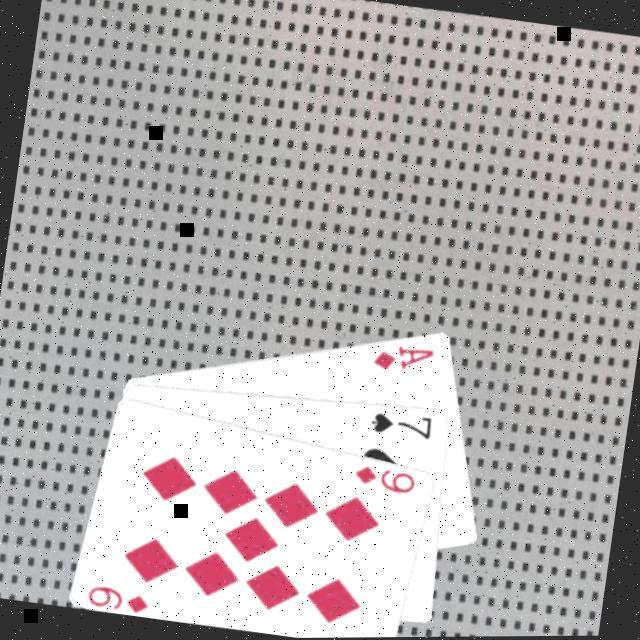7S: (368, 408, 438, 445)
9D: (352, 462, 422, 502), (86, 583, 156, 619)
AD: (370, 340, 440, 381)
